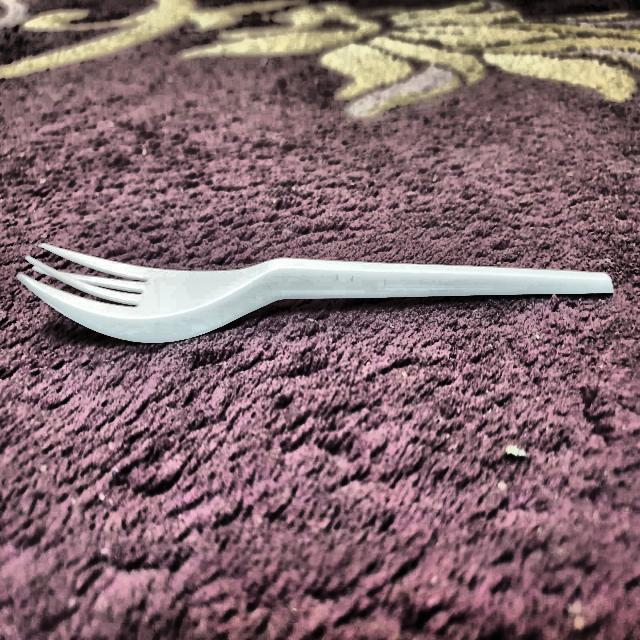plastic utensil: (14, 228, 620, 350)
